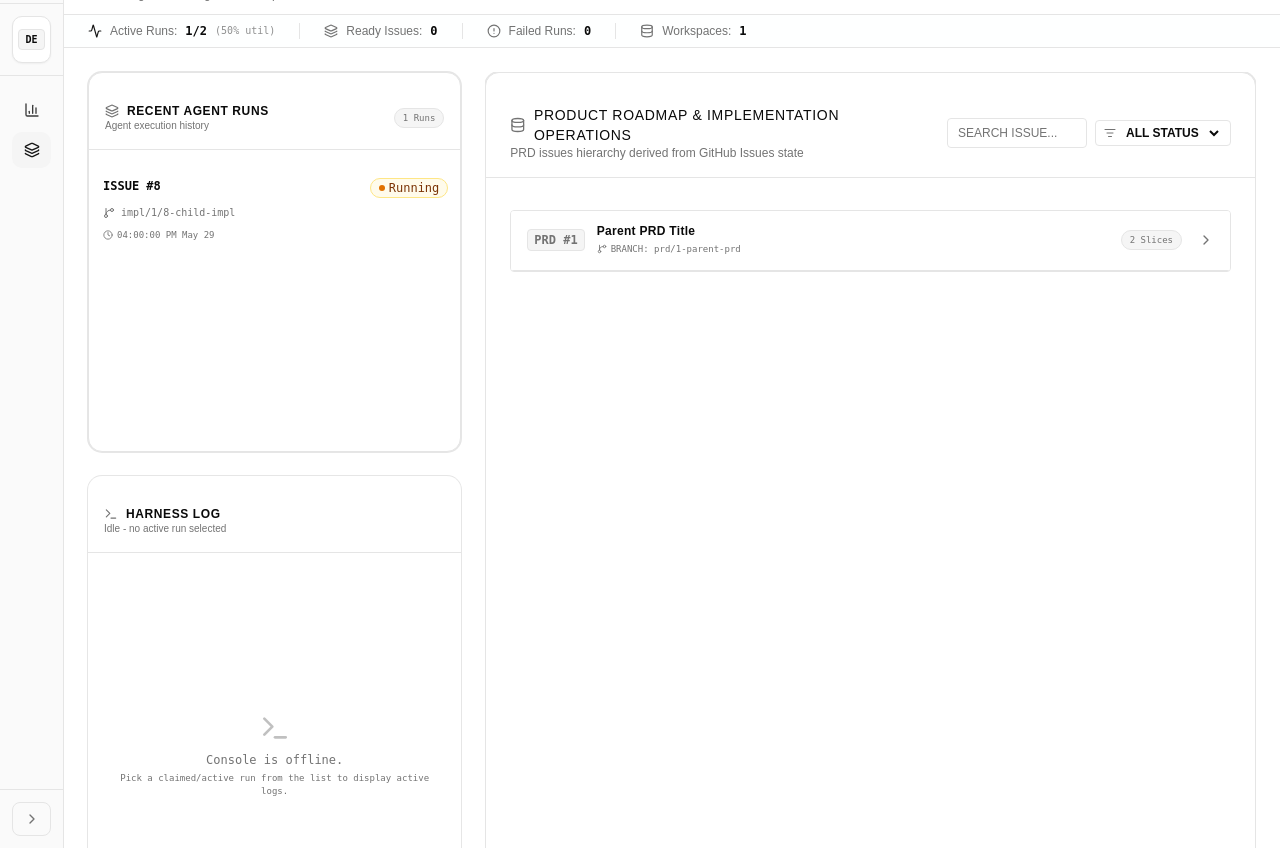
Rangkai Dashboard Frontend › displays recent agent runs and handles log loading
Check: the text "Recent Agent Runs" is shown, box [105,103,269,119]
Check: the text "ISSUE #8" is shown, box [103,178,161,194]
Click the button "PRD #1 Parent PRD Title BRANCH: prd/1-parent-prd 2 Slices" at x=556, y=240, box [511,211,1230,271]
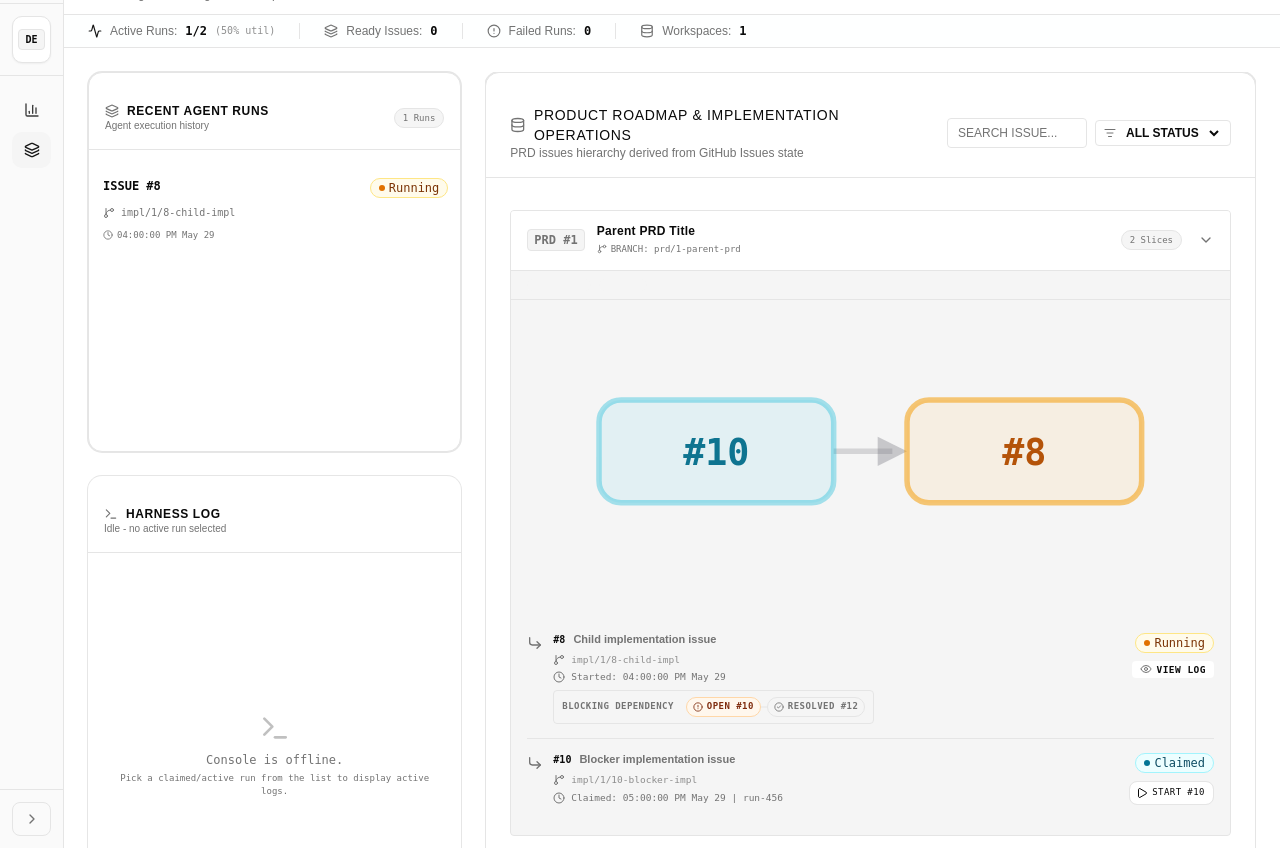
Click the button "View Log" at x=1173, y=669, box [1132,660,1214,678]
(page scrolled)
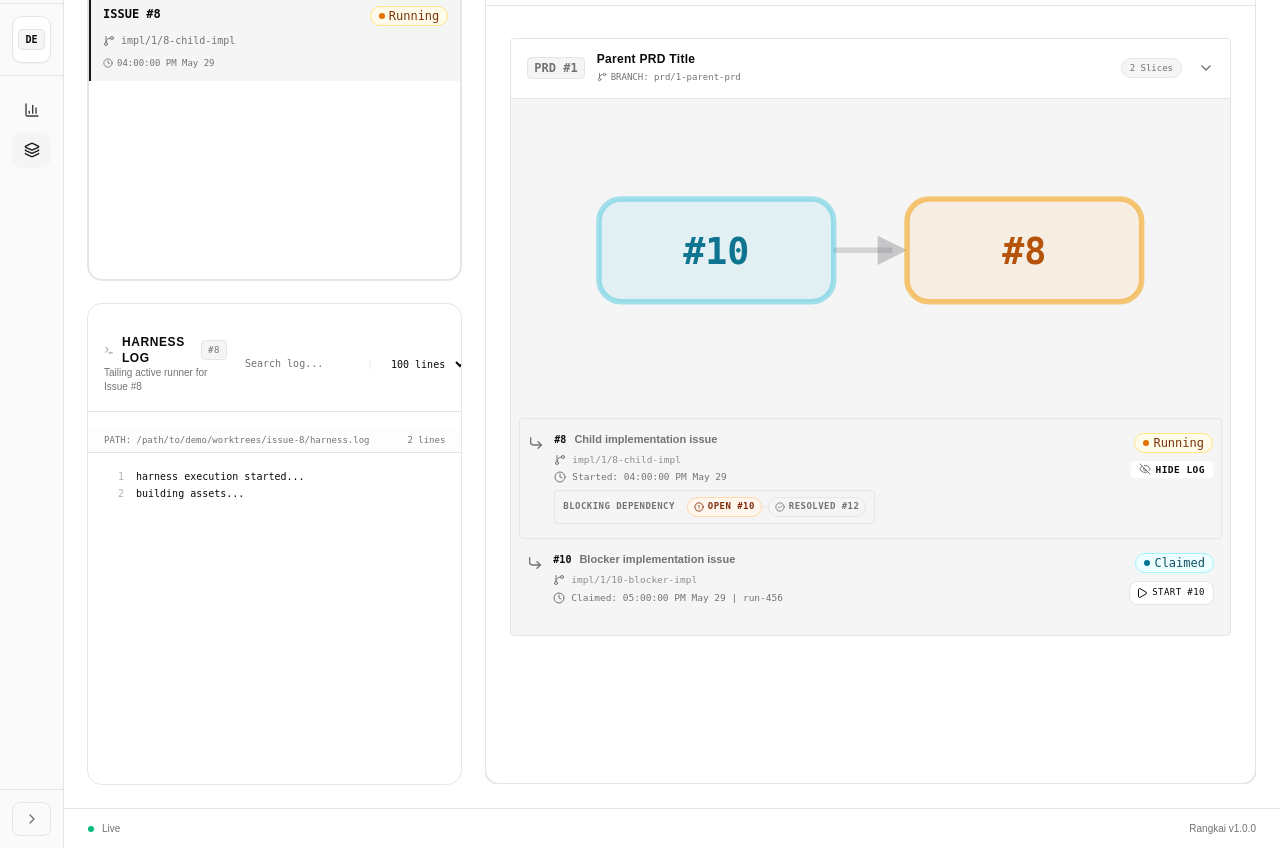
Check: the text "PATH: /path/to/demo/worktrees/issue-8/harness.log" is shown, box [104,434,386,446]
Check: the text "harness execution started..." is shown, box [136,469,305,486]
Check: the text "building assets..." is shown, box [136,488,244,499]
